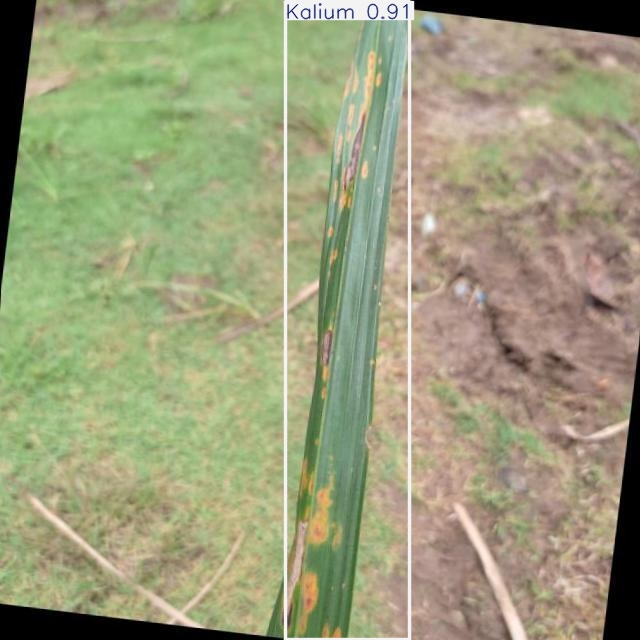Kalium: (286, 2, 410, 640)
